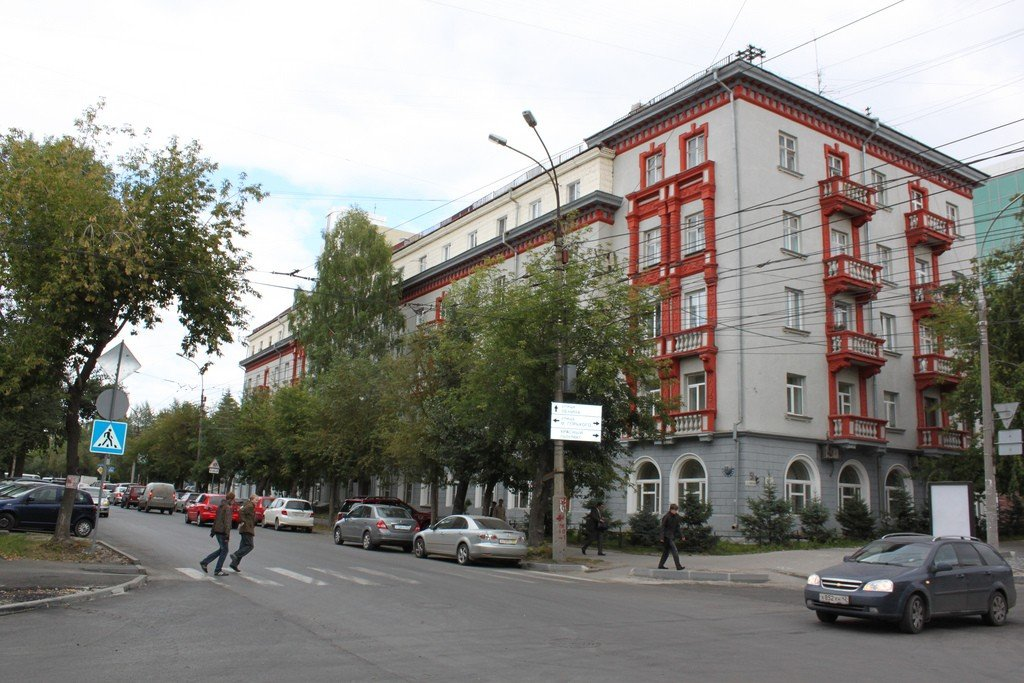sign: (88, 415, 129, 456)
